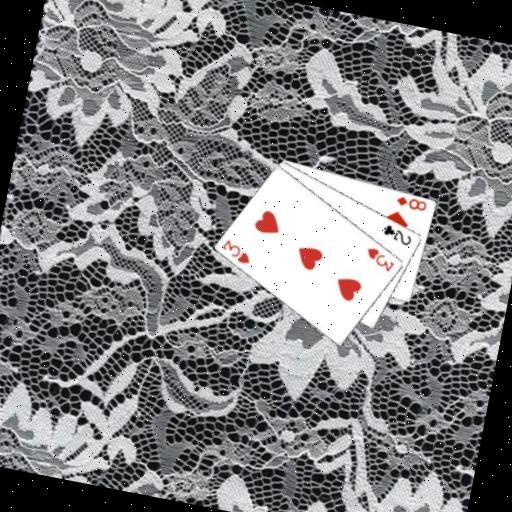2C: (379, 221, 416, 248)
3H: (217, 235, 255, 267), (361, 243, 399, 274)
8D: (393, 192, 430, 213)
